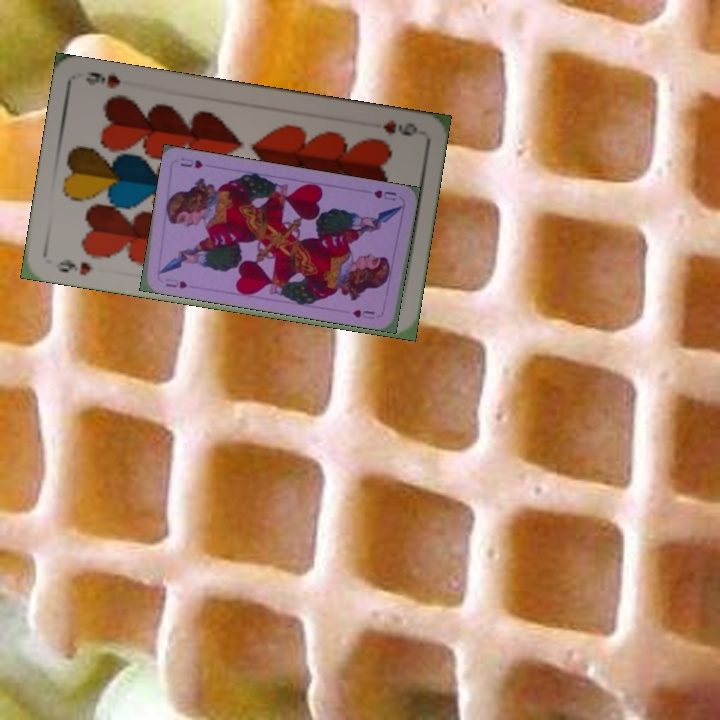H9: (51, 255, 97, 278), (378, 116, 420, 139)
HU: (162, 273, 190, 291), (370, 186, 399, 203)
